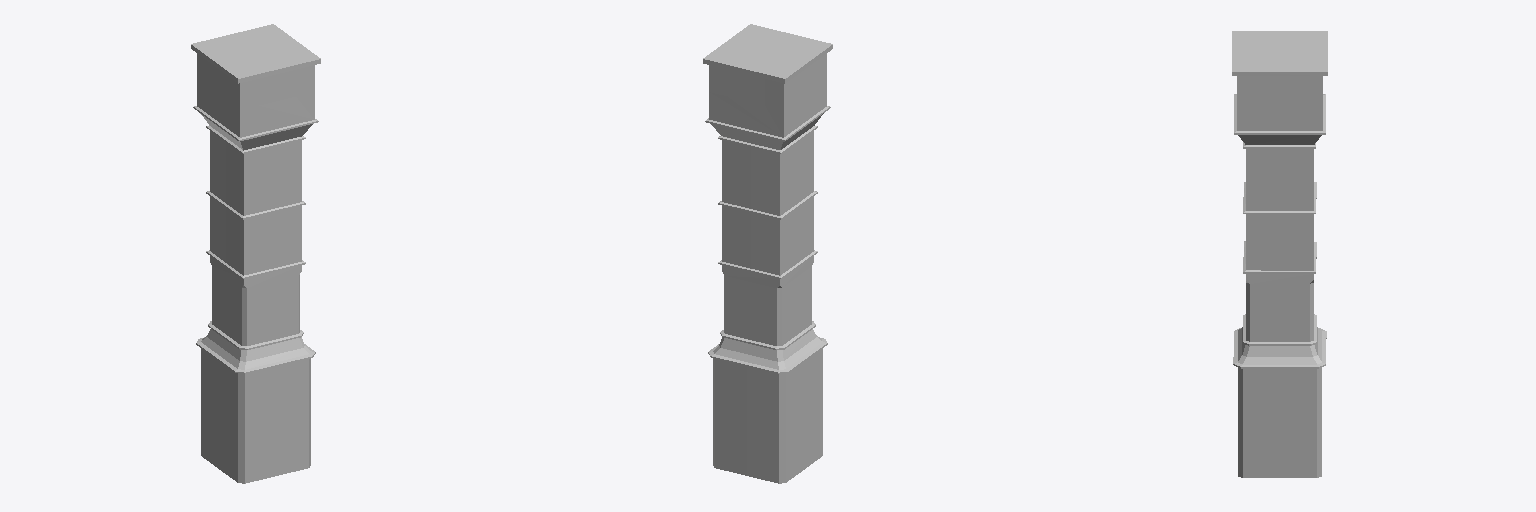
File: Gotham_Skyline_BuildingBlock03b.obj
3 views of the same model, side by side, from view 1: azimuth 30°, elevation 25°; view 2: azimuth 150°, elevation 25°; view 3: azimuth 270°, elevation 25° (orthographic).
Visible parts, largest first — view 1: 7_Gotham-Skyline-BuildingBlock03; view 2: 7_Gotham-Skyline-BuildingBlock03; view 3: 7_Gotham-Skyline-BuildingBlock03.
Part boxes in pixels (x1,y1,x2,y2): 7_Gotham-Skyline-BuildingBlock03: (191, 24, 320, 483); 7_Gotham-Skyline-BuildingBlock03: (703, 24, 832, 483); 7_Gotham-Skyline-BuildingBlock03: (1232, 31, 1327, 477).
Size of the model in its own units: 5320 by 25101 by 5318.